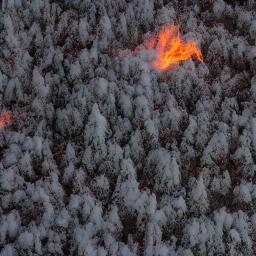Small fire: (116, 15, 209, 82)
